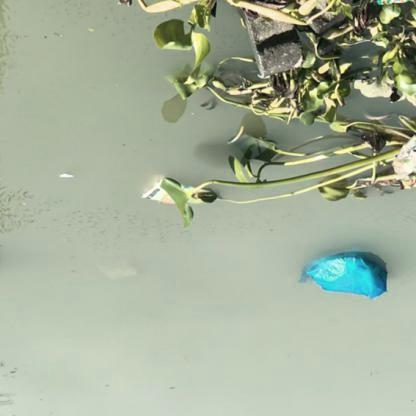Trash: (300, 246, 391, 302), (142, 178, 200, 214)
